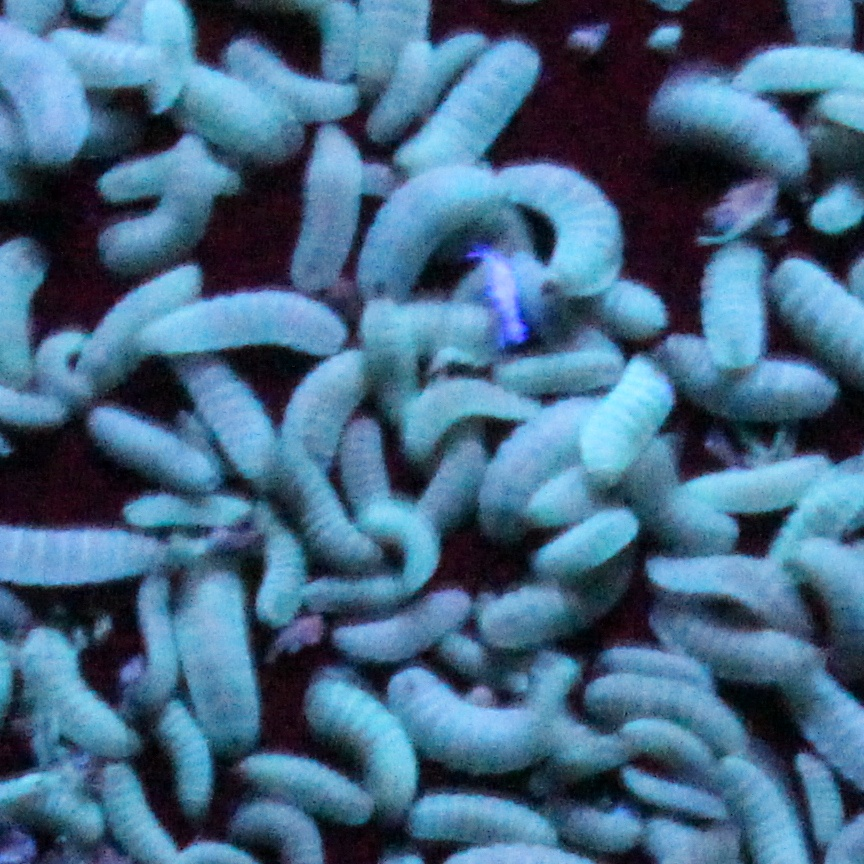larve: (487, 170, 625, 297), (652, 330, 844, 420), (414, 45, 540, 172), (489, 393, 595, 532), (404, 674, 540, 782), (652, 71, 805, 167), (278, 129, 359, 303), (88, 267, 198, 395), (352, 174, 484, 280), (190, 553, 260, 751), (360, 29, 481, 141), (26, 628, 126, 761), (663, 607, 811, 695), (140, 284, 349, 346), (275, 454, 383, 571), (311, 679, 409, 807), (580, 671, 744, 745), (106, 152, 221, 256), (399, 379, 556, 453), (88, 402, 217, 489), (586, 361, 672, 484), (159, 62, 284, 145), (283, 354, 372, 461), (647, 561, 806, 620), (208, 374, 291, 486), (680, 461, 831, 520), (242, 758, 375, 822), (337, 597, 476, 658), (228, 46, 352, 111), (39, 26, 163, 90), (152, 697, 221, 807), (353, 303, 419, 415), (706, 245, 760, 376), (422, 790, 557, 841), (539, 510, 634, 579), (583, 272, 668, 348), (617, 715, 717, 774), (480, 348, 625, 387), (480, 590, 573, 649), (94, 153, 244, 188), (437, 414, 480, 536), (785, 751, 840, 842), (622, 764, 716, 812), (380, 508, 435, 582), (606, 643, 711, 681), (116, 495, 250, 522), (529, 469, 586, 523), (268, 518, 298, 620)
